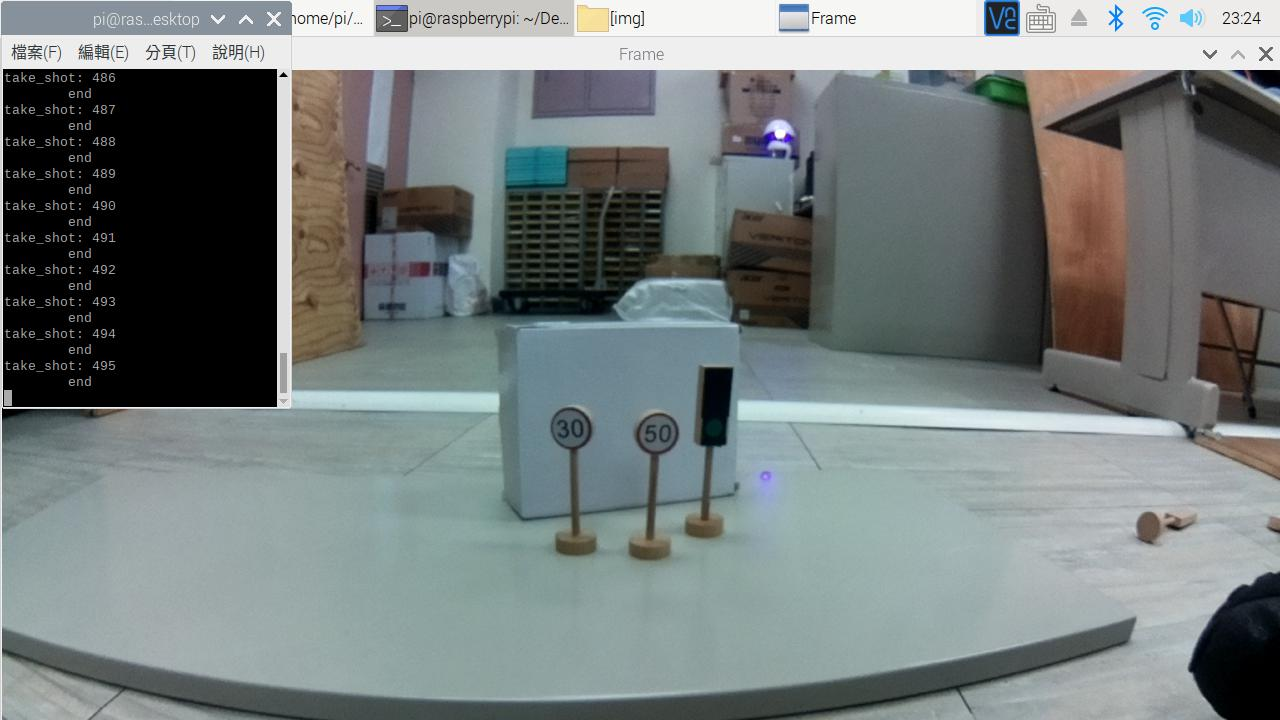Green: (691, 356, 739, 456)
Speed30: (548, 403, 600, 451)
Speed50: (633, 412, 679, 466)
